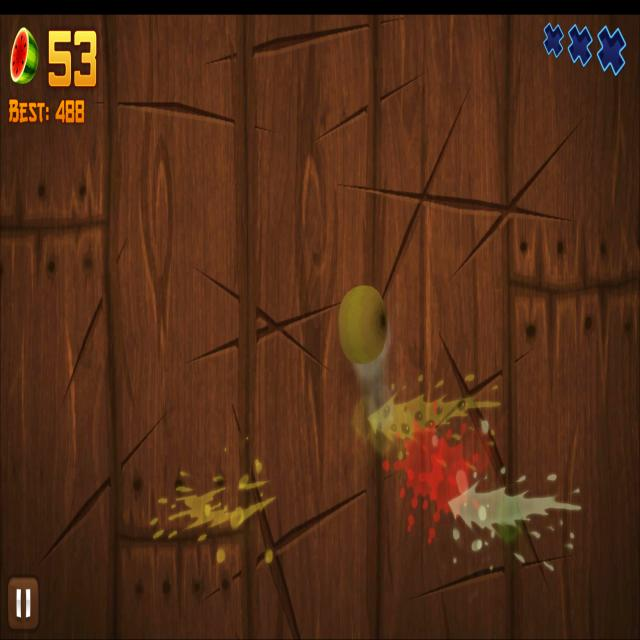fruit: (338, 284, 388, 365)
